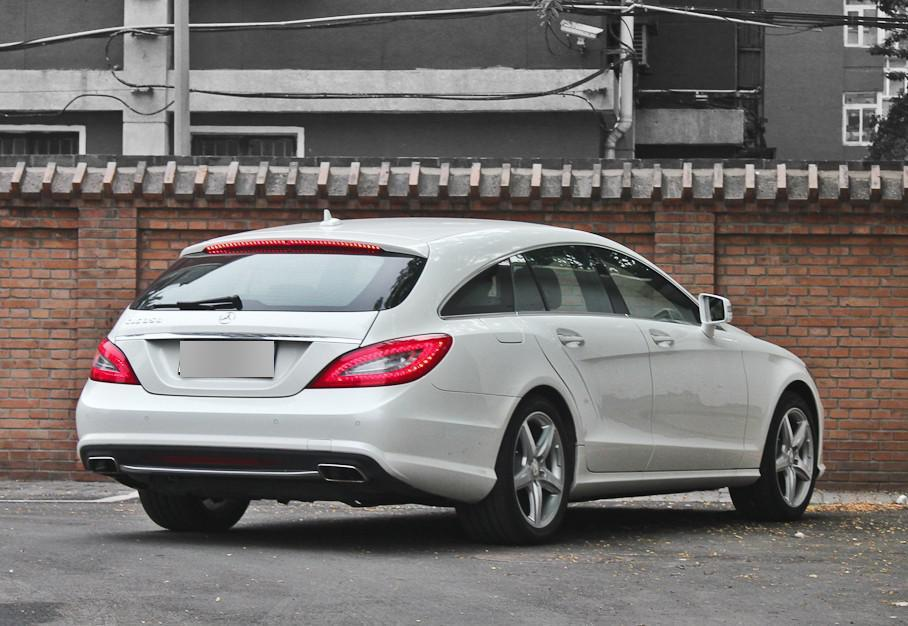Wagon: (72, 207, 827, 548)
